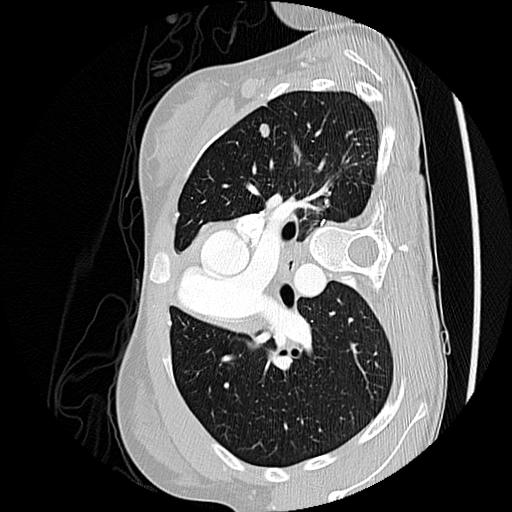nodule: (256, 121, 273, 138)
